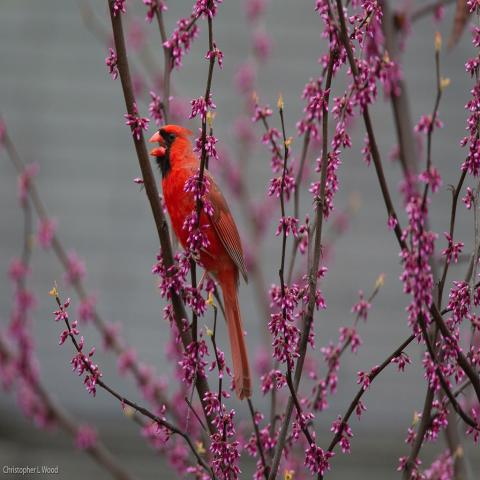bird: (146, 121, 255, 401)
